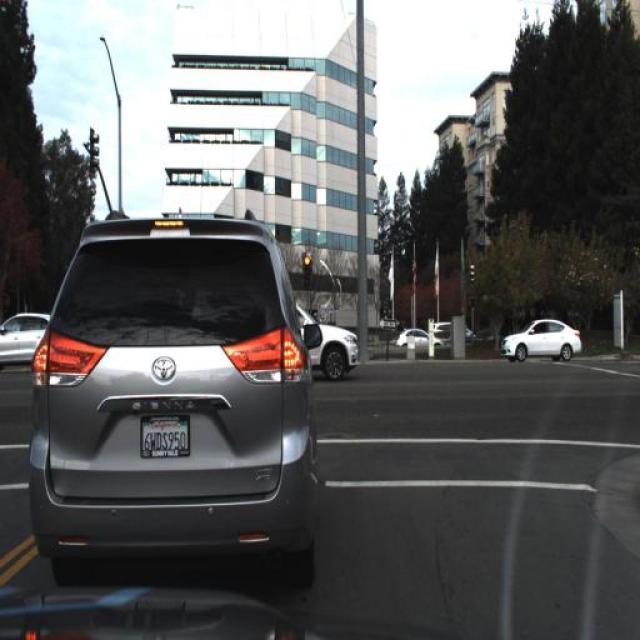car: (25, 206, 324, 580), (290, 298, 358, 382), (498, 316, 582, 366), (0, 310, 65, 374), (74, 324, 120, 374), (396, 326, 442, 352)
trafficLight-RedLeft: (300, 246, 314, 290)
